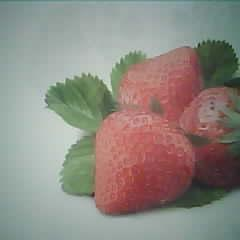straw-ripe: (94, 108, 196, 212)
